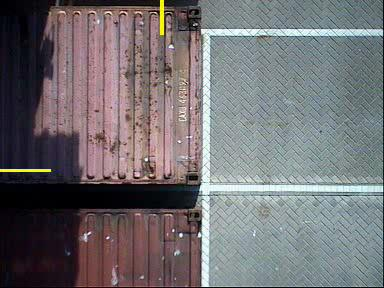groundmarker_2: (110, 8, 162, 48), (109, 149, 161, 189)
